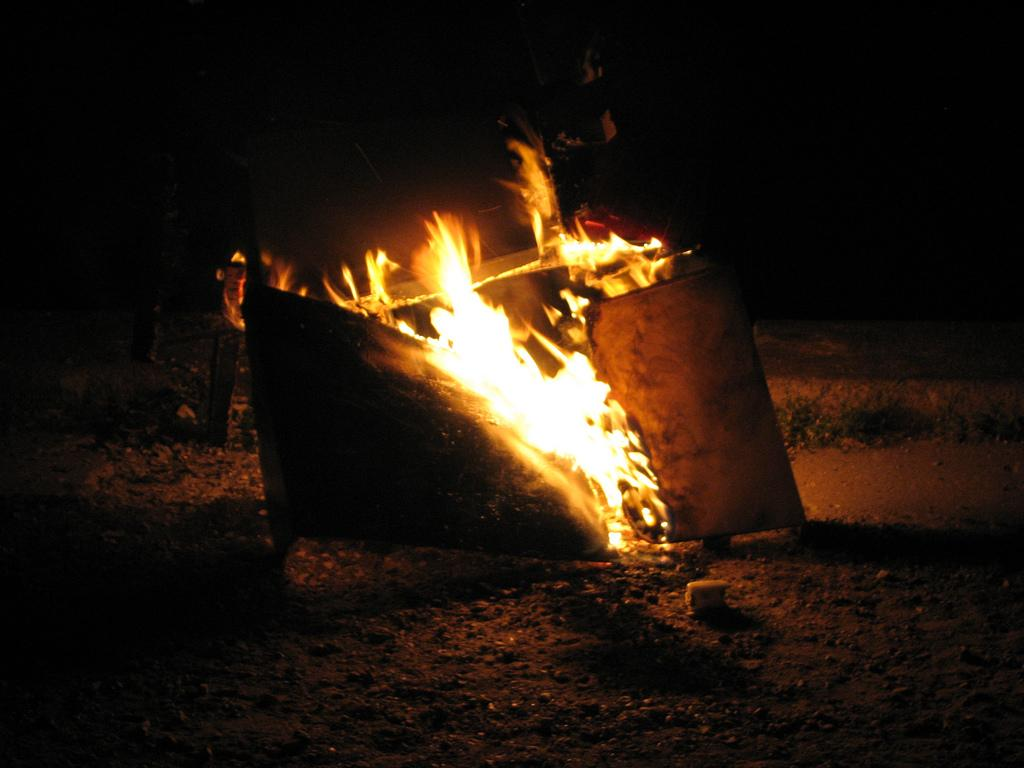fire: (548, 370, 630, 494), (450, 290, 522, 410)
